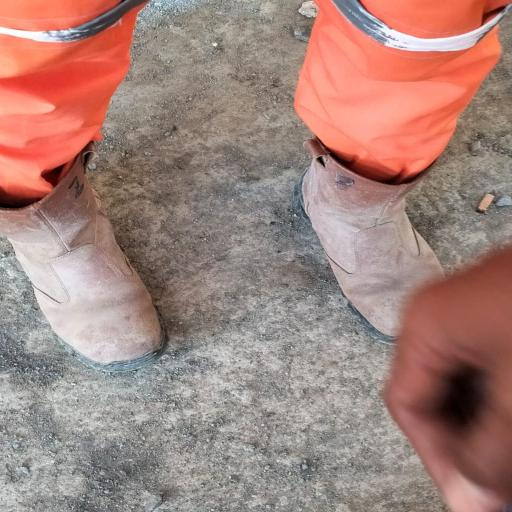safety_shoe: (0, 158, 171, 372), (292, 139, 460, 338)
